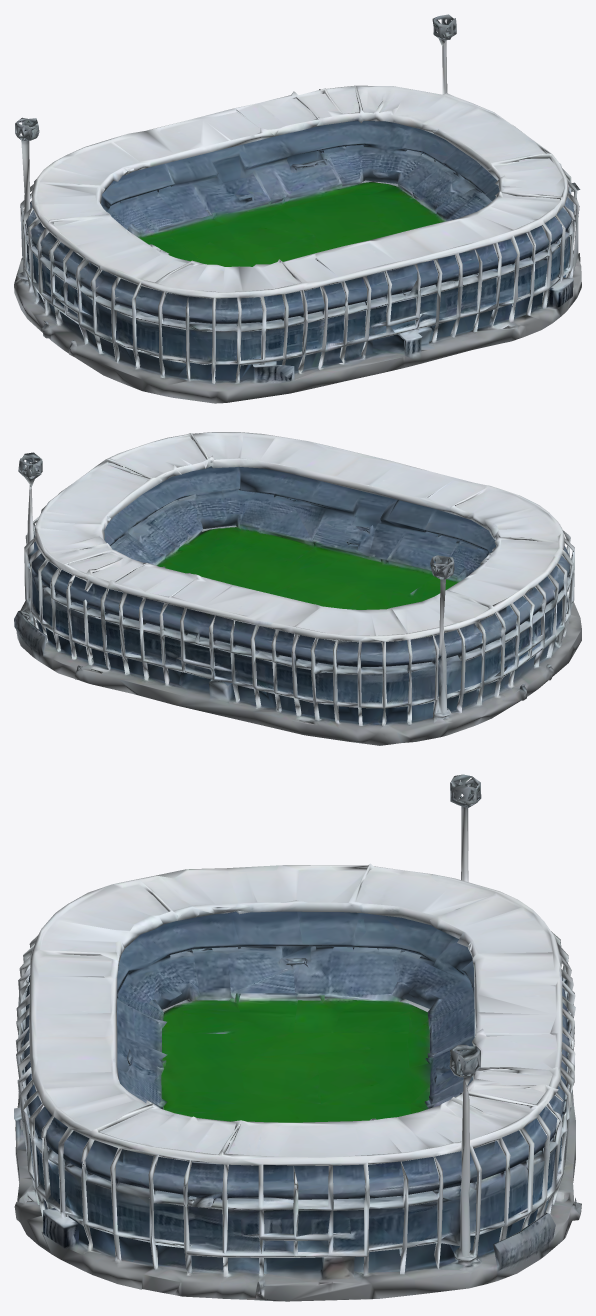
File: stadium.glb
3 views of the same model, one above another, from view 1: azimuth 30°, elevation 25°; view 2: azimuth 150°, elevation 25°; view 3: azimuth 270°, elevation 25° (orthographic). The views are drawn at different scales.
Parts seen in each view (by area): view 1: tripo_node_b6005c40-4000-4fef-9dce-31bd4fa1169b; view 2: tripo_node_b6005c40-4000-4fef-9dce-31bd4fa1169b; view 3: tripo_node_b6005c40-4000-4fef-9dce-31bd4fa1169b.
Boxes of the visible parts, x1,y1,x2,y2 form: tripo_node_b6005c40-4000-4fef-9dce-31bd4fa1169b: [14, 14, 581, 403]; tripo_node_b6005c40-4000-4fef-9dce-31bd4fa1169b: [14, 432, 581, 745]; tripo_node_b6005c40-4000-4fef-9dce-31bd4fa1169b: [14, 774, 581, 1301].
Bounding box in the file's own units: 0.9975 × 0.3415 × 0.7554.
1 material, 1 textured.
